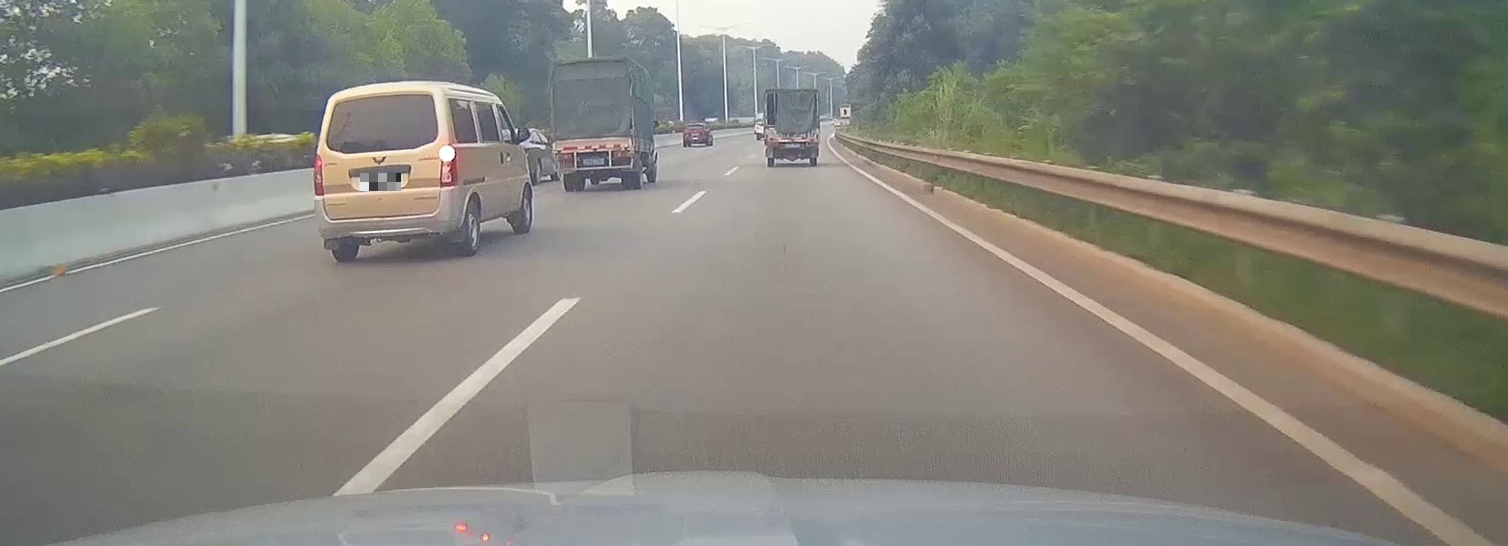L_light: (313, 153, 325, 197), (557, 154, 573, 160), (768, 143, 778, 147)
R_light: (439, 144, 458, 188), (614, 151, 630, 157), (807, 142, 818, 147)
T_light: (372, 95, 388, 100), (590, 145, 600, 149), (787, 137, 797, 140)
day-no: (549, 54, 635, 192), (763, 87, 820, 167)
day-right: (311, 81, 461, 261)
plate_1: (360, 173, 401, 191)
